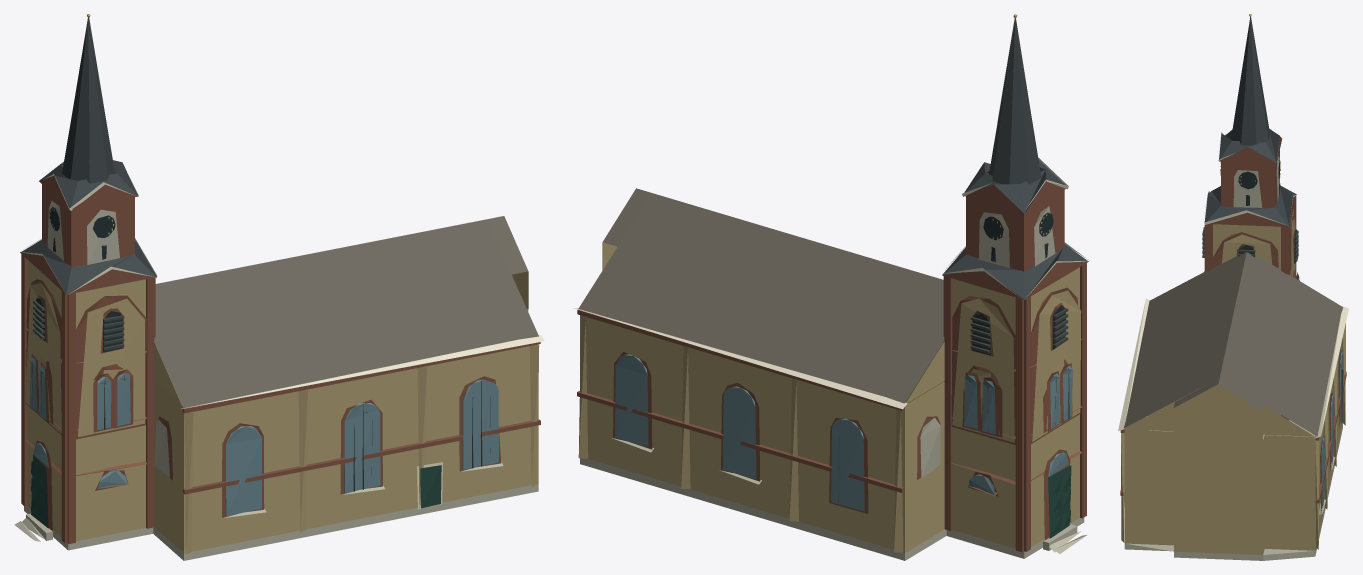
Rendered from nieuwendammerkerk.lod1.glb.
3 views of the same model, side by side, from view 1: azimuth 30°, elevation 25°; view 2: azimuth 150°, elevation 25°; view 3: azimuth 270°, elevation 25° (orthographic). The views are drawn at different scales.
Parts seen in each view (by area): view 1: nieuwendammerkerk; view 2: nieuwendammerkerk; view 3: nieuwendammerkerk.
Part boxes in pixels (x1=…): nieuwendammerkerk: x1=14, y1=14, x2=544, y2=560; nieuwendammerkerk: x1=573, y1=14, x2=1088, y2=560; nieuwendammerkerk: x1=1118, y1=14, x2=1348, y2=560.
Size of the model in its own units: 25.48 by 26.76 by 14.16.
